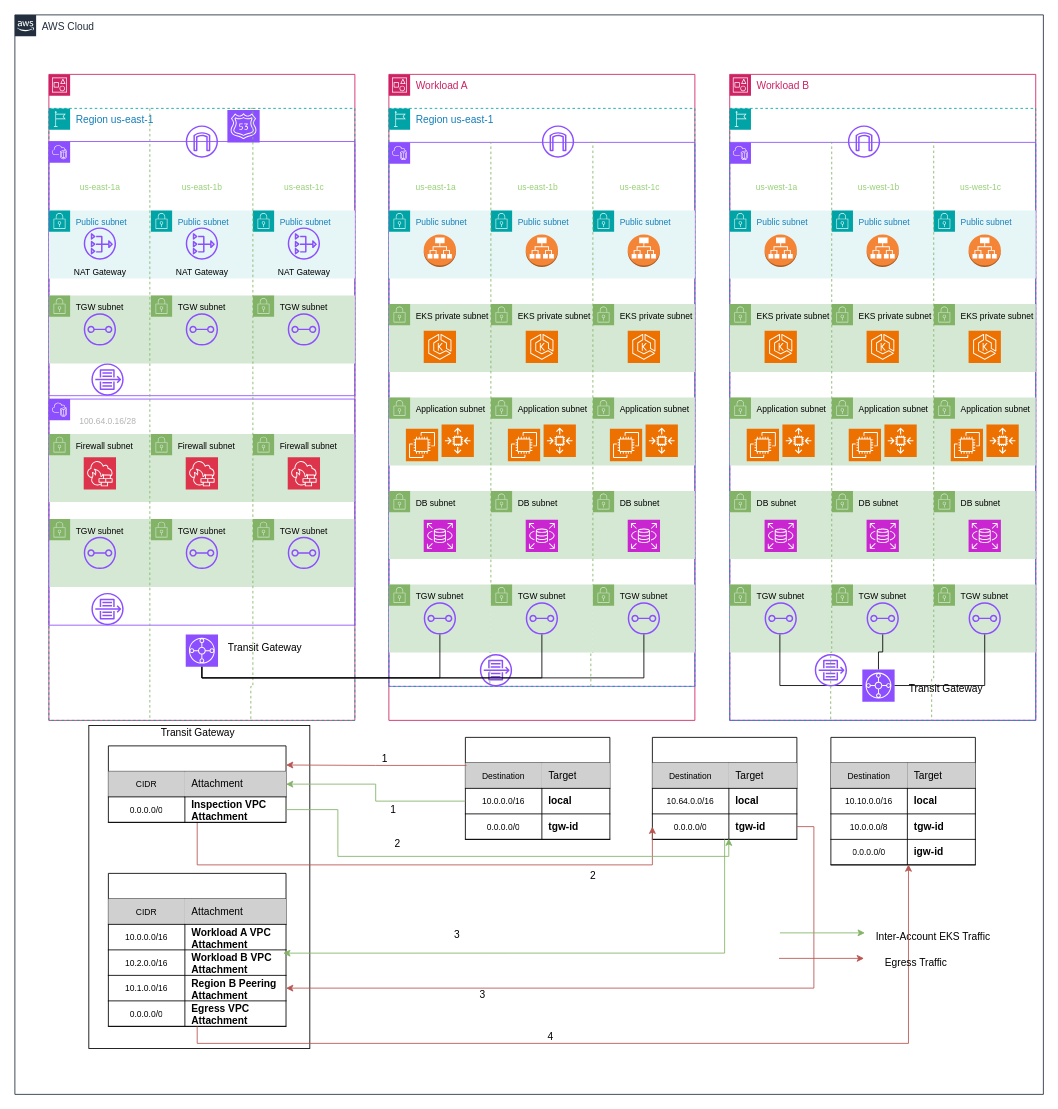
Some shapes in this 1058 by 1109 pixel diagram are drawn without their labels. The shapes that lost their labels are listed below. From the top down, each one's box as (x1, y1, x2, y2) in pixels, then its label:
(48, 141, 355, 396): Egress VPC 10.10.0.0/16
(48, 74, 355, 720): Networking Account
(388, 142, 695, 686): VPC Workload A 10.0.0.0/16
(729, 108, 1036, 720): Region us-west-1
(729, 142, 1036, 720): VPC Workload B 10.1.0.0/16
(48, 398, 355, 625): Inspection VPC
(108, 745, 286, 822): Workload Inspection Route table
(465, 737, 610, 839): Route table Workload A VPC
(652, 737, 797, 839): Route table Inspection VPC
(830, 737, 975, 865): Route table Egress VPC
(108, 873, 286, 1026): Firewall Route table
